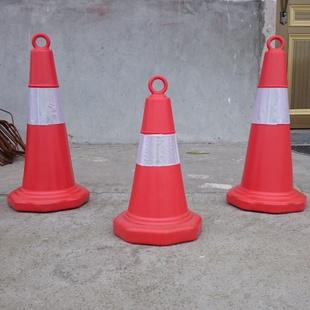cone_barrel: (111, 74, 202, 244), (223, 35, 304, 217), (9, 32, 87, 212)
